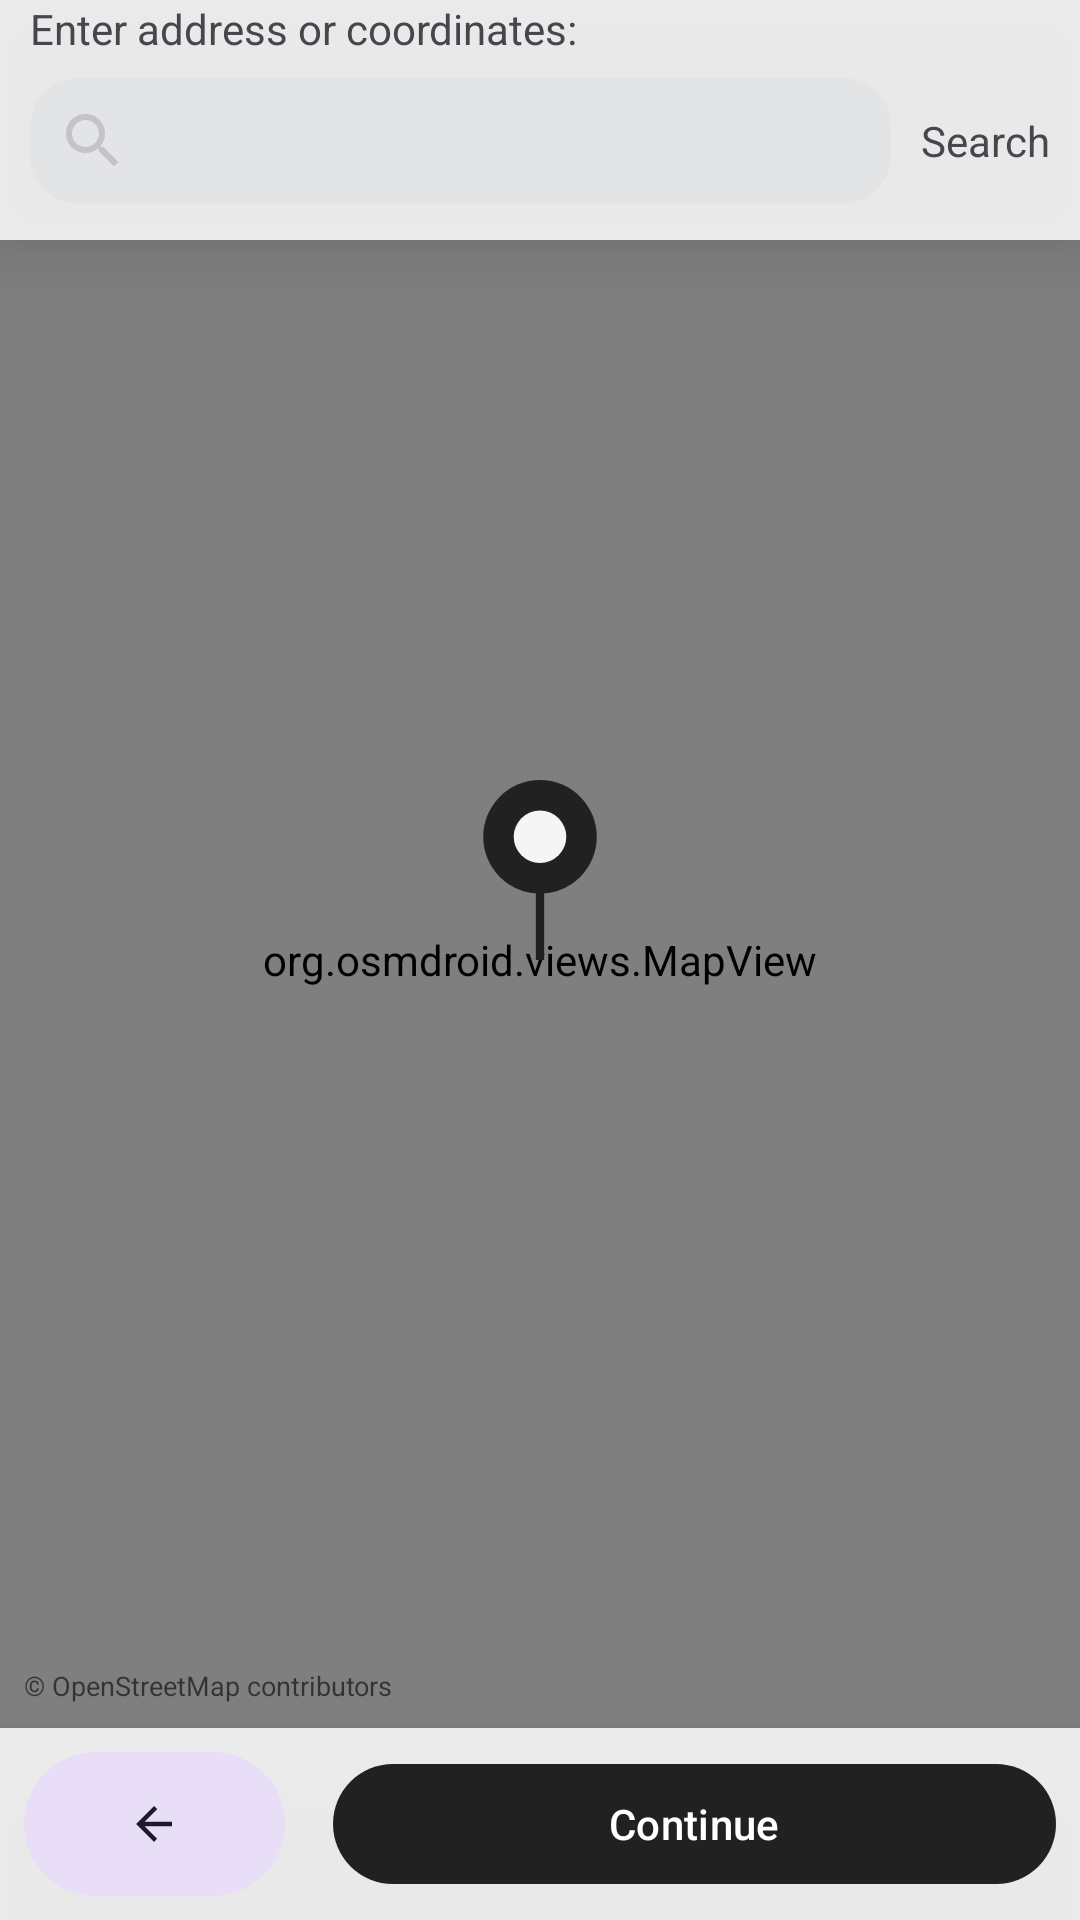

Where to tap for icons on this 1080 × 1920 app screen, as (x=x, y=y):
arrow back: (x=154, y=1824)
pin: (x=539, y=870)
